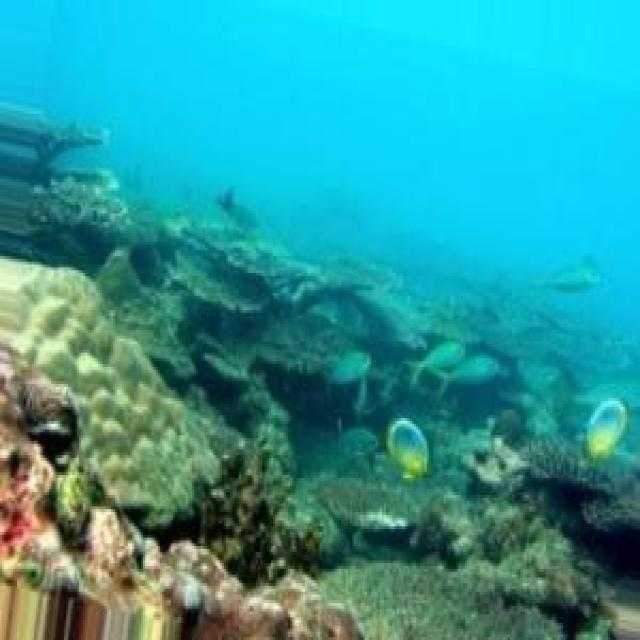bleached coral: (0, 267, 215, 523), (47, 472, 326, 640), (350, 586, 538, 640), (467, 435, 533, 512), (341, 512, 414, 535)
healthy coral: (412, 333, 617, 441), (100, 250, 269, 378), (0, 122, 128, 225), (119, 168, 277, 247), (247, 324, 371, 415), (491, 256, 623, 333), (320, 415, 437, 484), (324, 265, 422, 327), (495, 589, 585, 640)
